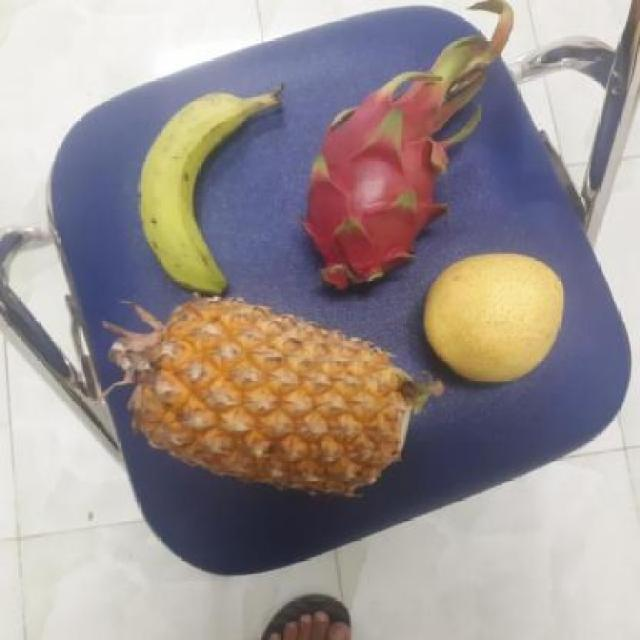banana: (134, 91, 275, 292)
dragon fruit: (296, 86, 462, 286)
pear: (414, 254, 566, 380)
pineapple: (105, 295, 428, 496)
